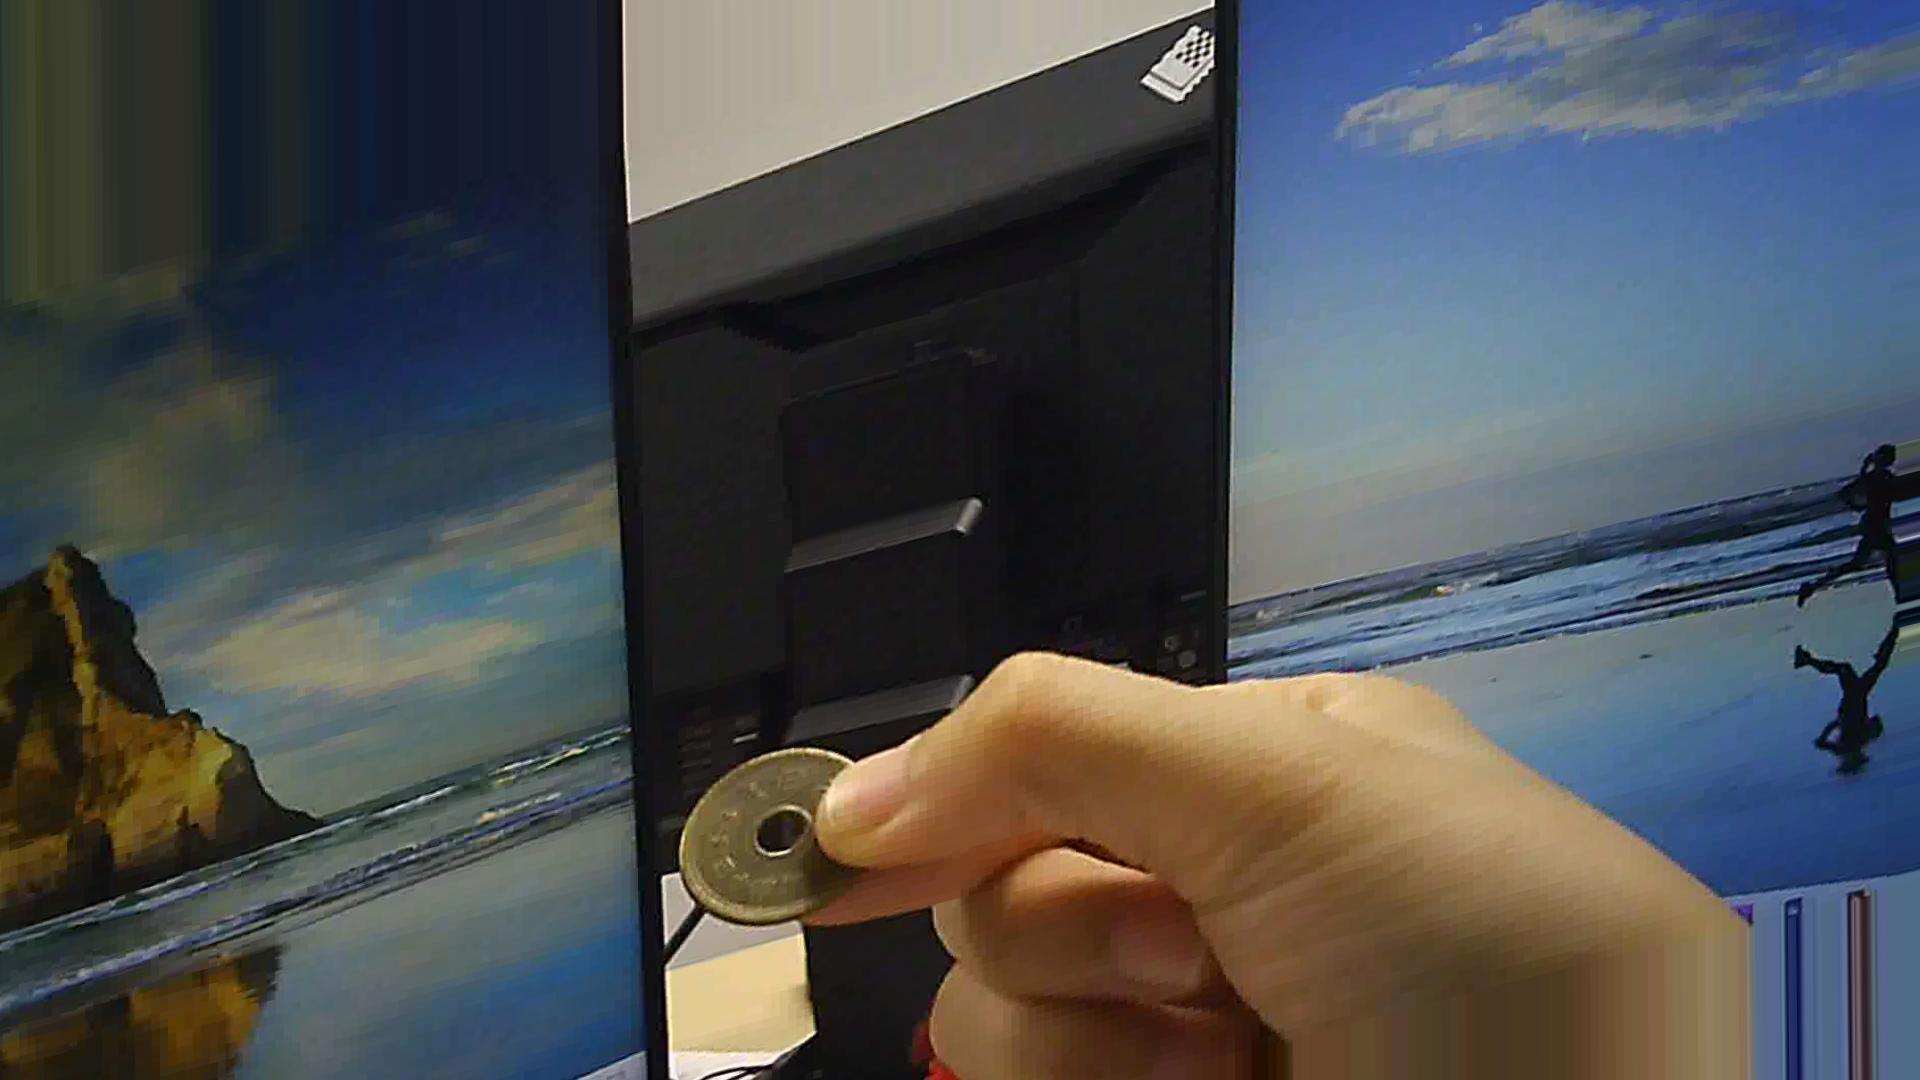5 Yen: (670, 740, 882, 940)
